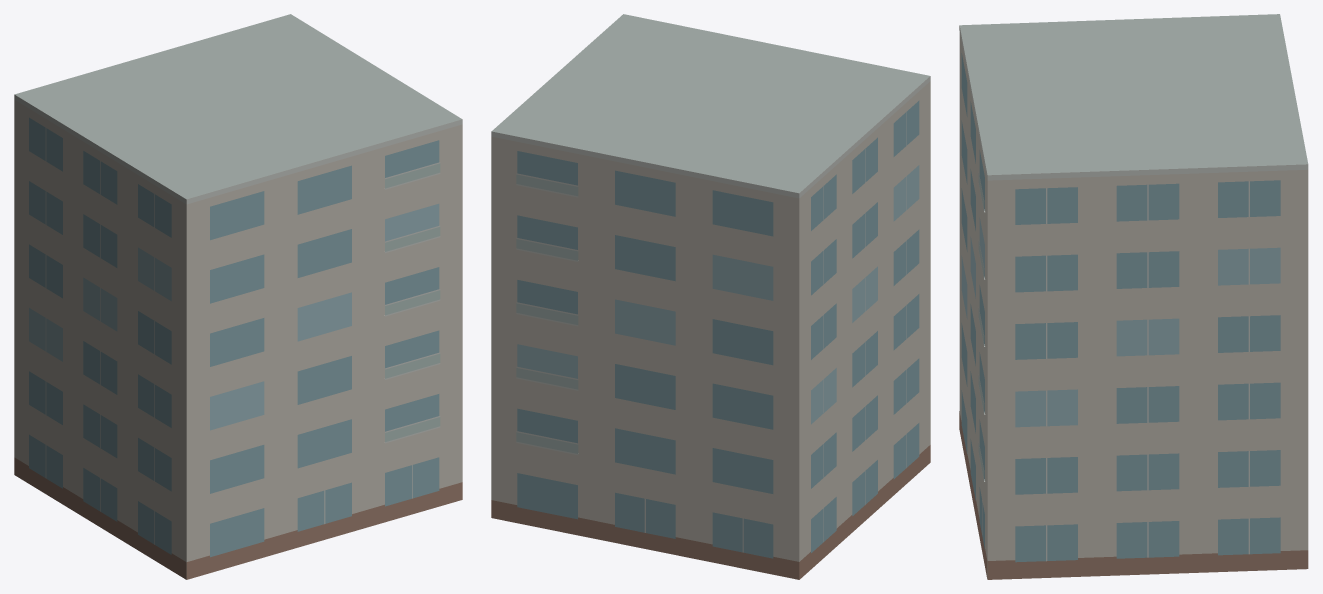
File: survey-upis-33019156.glb
3 renders of one model, left to right at view 1: azimuth 30°, elevation 25°; view 2: azimuth 150°, elevation 25°; view 3: azimuth 270°, elevation 25°, orthographic. The views are drawn at different scales.
Visible parts, largest first — view 1: survey-upis-33019156.tmp; view 2: survey-upis-33019156.tmp; view 3: survey-upis-33019156.tmp.
Part boxes in pixels (bbox=[...]): survey-upis-33019156.tmp: bbox=[14, 14, 462, 579]; survey-upis-33019156.tmp: bbox=[491, 14, 930, 579]; survey-upis-33019156.tmp: bbox=[959, 14, 1308, 579].
Bounding box in the file's own units: 15.65 × 18.3 × 14.31.
